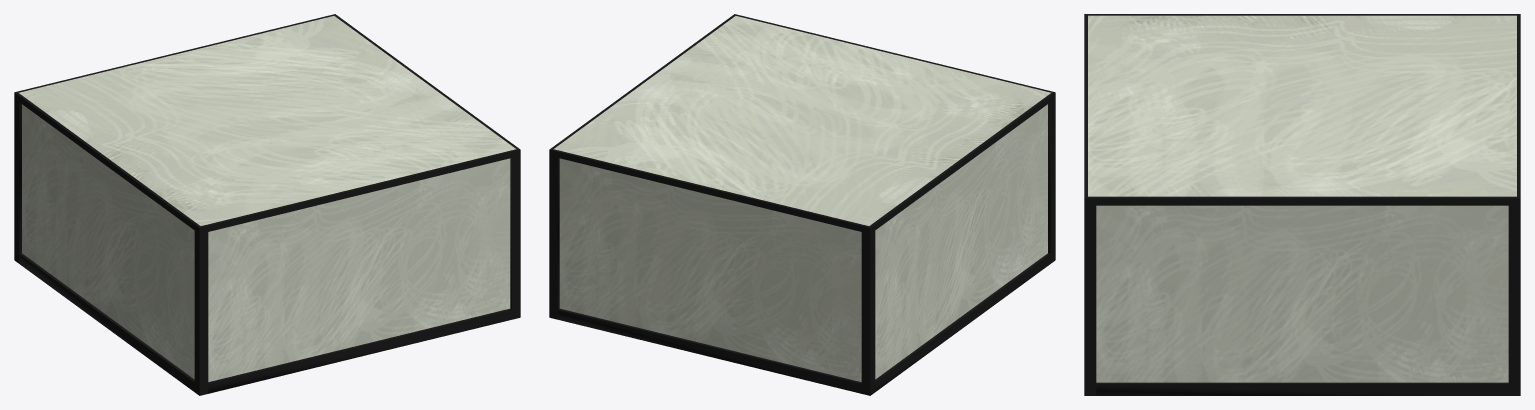
Rendered from buildingFoundation.fbx.
The picture shows the model from 3 angles, left to right: view 1: azimuth 30°, elevation 25°; view 2: azimuth 150°, elevation 25°; view 3: azimuth 270°, elevation 25°; orthographic projection. The views are drawn at different scales.
Parts seen in each view (by area): view 1: buildingBaseFoundation; view 2: buildingBaseFoundation; view 3: buildingBaseFoundation.
Boxes of the visible parts, left/top/right/bottom form: buildingBaseFoundation: left=14, top=14, right=520, bottom=395; buildingBaseFoundation: left=549, top=14, right=1055, bottom=395; buildingBaseFoundation: left=1084, top=14, right=1520, bottom=395.
Bounding box in the file's own units: 600 × 300 × 600.
